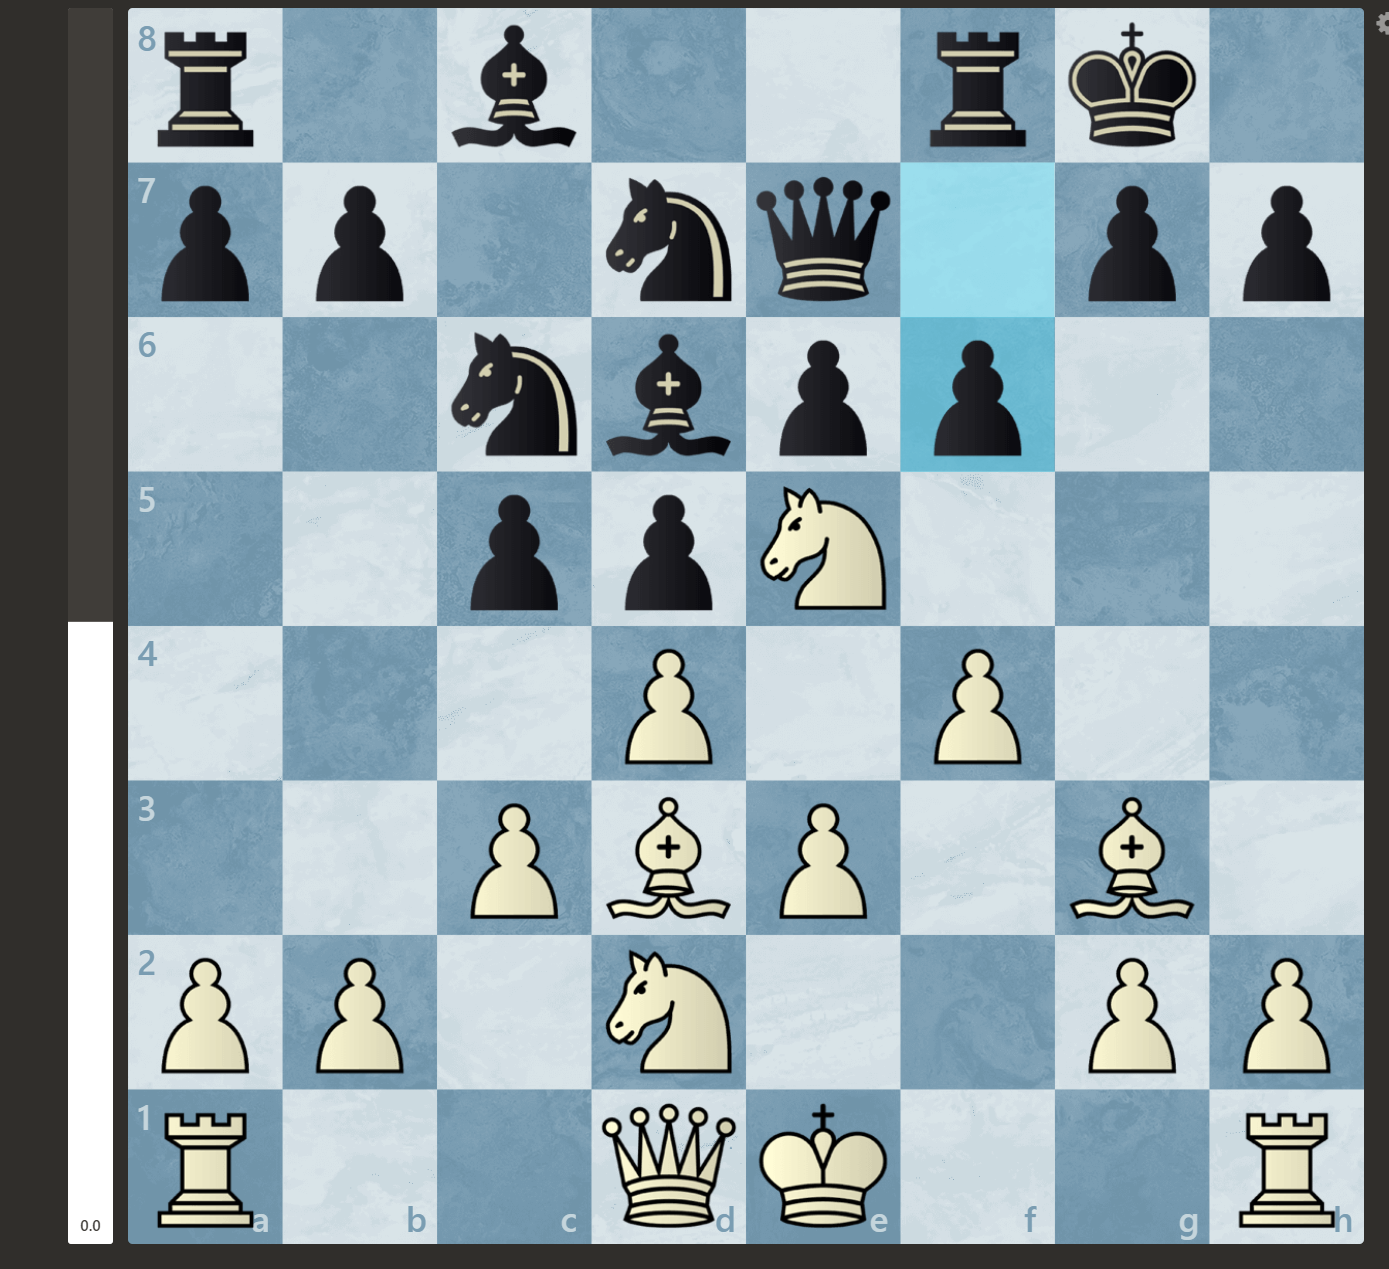beyaz_at: (754, 473, 894, 617), (599, 944, 737, 1080)
beyaz_fil: (1064, 789, 1203, 922), (603, 788, 739, 922)
beyaz_kale: (1212, 1098, 1361, 1235), (139, 1102, 272, 1235)
beyaz_piyon: (912, 631, 1051, 773), (137, 942, 275, 1081), (293, 940, 430, 1078), (1221, 938, 1354, 1077), (443, 789, 581, 921), (757, 789, 891, 922), (603, 633, 728, 768), (1070, 945, 1191, 1078)
beyaz_sah: (743, 1100, 894, 1238)
beyaz_vezir: (592, 1096, 740, 1238)
siyah_at: (444, 322, 584, 460), (599, 171, 739, 308)
siyah_fil: (599, 322, 737, 465), (448, 13, 583, 152)
siyah_kale: (132, 13, 277, 148), (917, 15, 1041, 152)
siyah_piyon: (1215, 169, 1359, 307), (446, 475, 584, 617), (136, 171, 275, 307), (603, 480, 736, 618), (1064, 169, 1197, 307), (293, 173, 426, 308), (754, 325, 887, 457), (912, 331, 1045, 462)
siyah_sah: (1057, 8, 1201, 155)
siyah_vezir: (750, 165, 894, 307)
